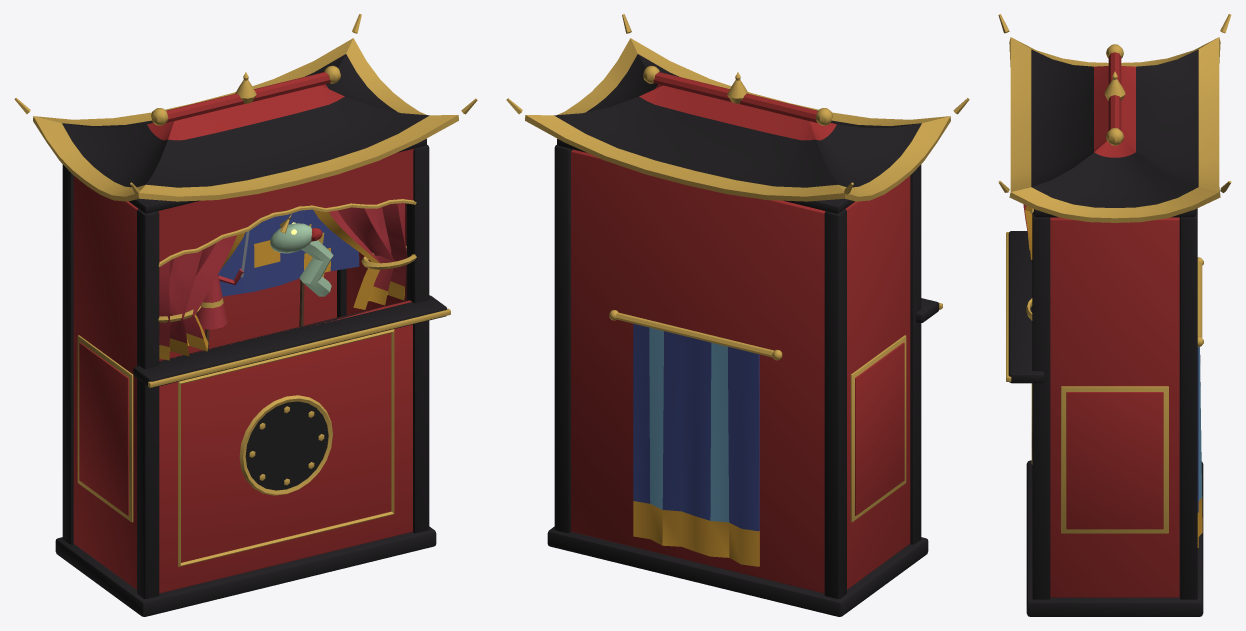
Rendered from deco_puppet_theatre.fbx.
3 renders of one model, left to right at view 1: azimuth 30°, elevation 25°; view 2: azimuth 150°, elevation 25°; view 3: azimuth 270°, elevation 25°, orthographic.
Visible parts, largest first — view 1: PuppetTheatre_Booth, PuppetTheatre_Roof, PuppetTheatre_Curtains, PuppetTheatre_Backcloth, PuppetTheatre_PuppetBeast, PuppetTheatre_PuppetHero; view 2: PuppetTheatre_Booth, PuppetTheatre_Roof, PuppetTheatre_BackCurtain; view 3: PuppetTheatre_Booth, PuppetTheatre_Roof, PuppetTheatre_BackCurtain, PuppetTheatre_Curtains.
Part boxes in pixels (x1,y1,x2,y2): PuppetTheatre_Booth: (55,138,450,616); PuppetTheatre_Roof: (14,14,477,201); PuppetTheatre_Curtains: (158,199,416,360); PuppetTheatre_Backcloth: (218,209,359,296); PuppetTheatre_PuppetBeast: (270,213,333,326); PuppetTheatre_PuppetHero: (196,231,249,348); PuppetTheatre_Booth: (547,138,942,616); PuppetTheatre_Roof: (506,14,969,201); PuppetTheatre_BackCurtain: (609,310,782,566); PuppetTheatre_Booth: (1006,208,1203,616); PuppetTheatre_Roof: (998,14,1231,222); PuppetTheatre_BackCurtain: (1197,257,1203,547); PuppetTheatre_Curtains: (1023,204,1032,320).
Size of the model in its own units: 221 by 292 by 129.
